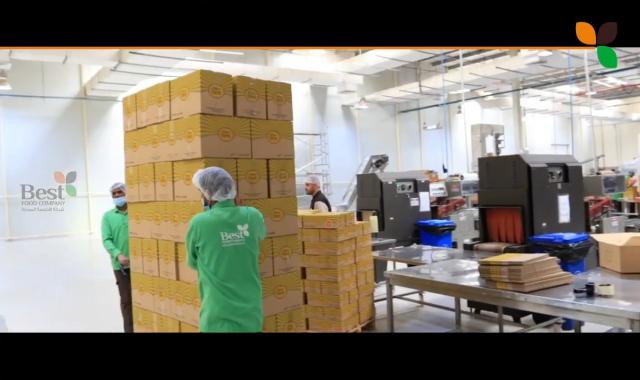hairnet: (192, 166, 238, 200), (303, 172, 322, 188), (109, 179, 125, 192)
